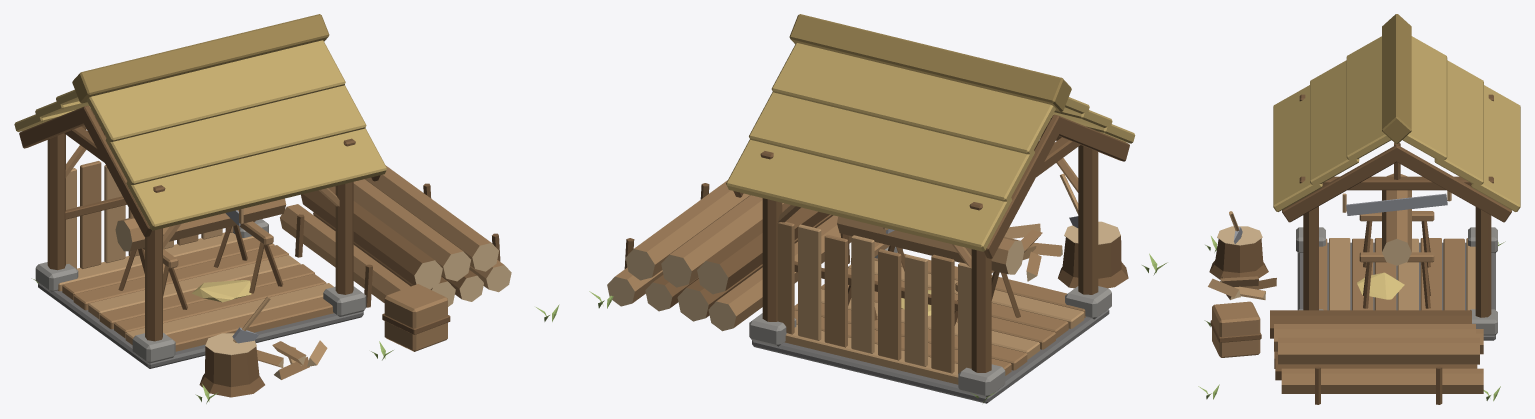
Rendered from lumber_camp_1.glb.
The picture shows the model from 3 angles, left to right: view 1: azimuth 30°, elevation 25°; view 2: azimuth 150°, elevation 25°; view 3: azimuth 270°, elevation 25°; orthographic projection. The views are drawn at different scales.
Visible parts, largest first — view 1: LumberCamp; view 2: LumberCamp; view 3: LumberCamp.
Boxes of the visible parts, <box> form: LumberCamp: <box>14,14,559,403</box>; LumberCamp: <box>589,14,1167,403</box>; LumberCamp: <box>1198,14,1520,404</box>.
Size of the model in its own units: 5.18 by 3.39 by 4.32.
